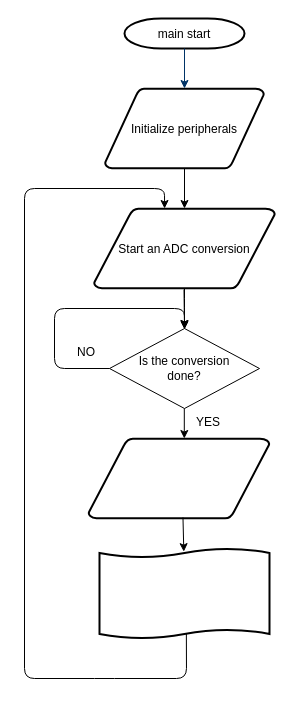
Some shapes in this 293 by 704 pixel diagram are drawn without their labels. The shapes that lost their labels are listed below. From the top down, each one's centre as x and y in pixels, then its label:
At pixel 178 478: "Read the conversion result and compute it".
At pixel 184 593: "Transmit the computed result through serial communication".
